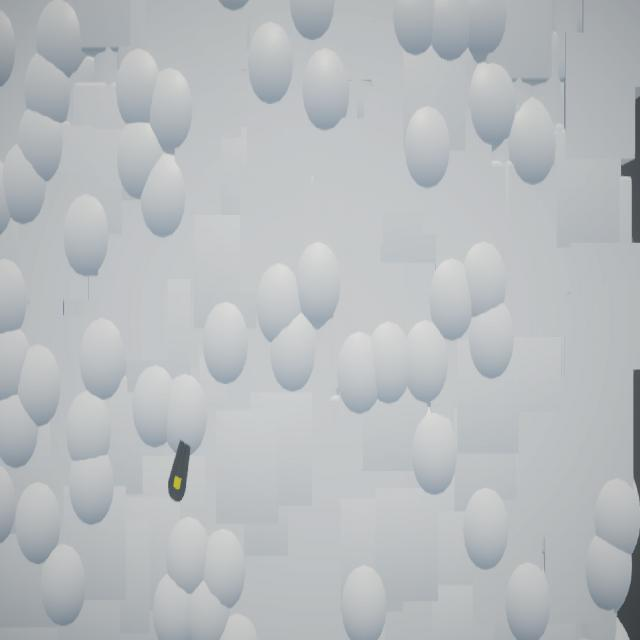handle_folk: (169, 441, 191, 504)
